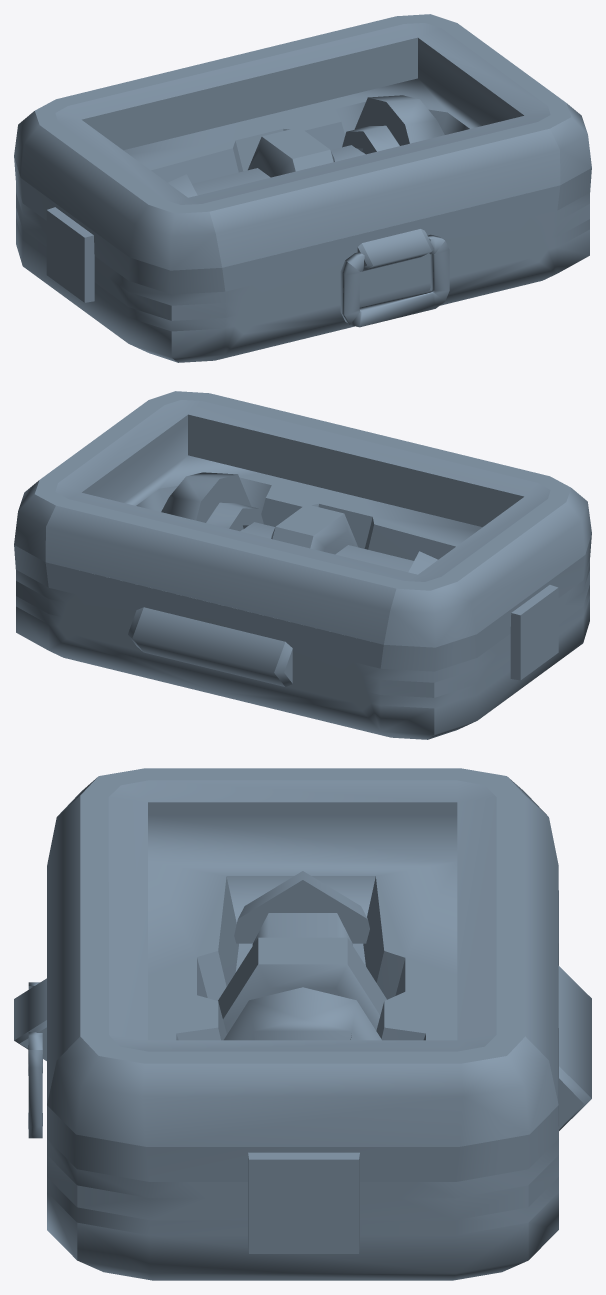
The model's file is obj_consumable_multicomponentkit_lod1.fbx.
3 views of the same model, one above another, from view 1: azimuth 30°, elevation 25°; view 2: azimuth 150°, elevation 25°; view 3: azimuth 270°, elevation 25° (orthographic). The views are drawn at different scales.
Visible parts, largest first — view 1: obj_consumable_multicomponent_lod1; view 2: obj_consumable_multicomponent_lod1; view 3: obj_consumable_multicomponent_lod1.
Boxes of the visible parts, x1,y1,x2,y2 form: obj_consumable_multicomponent_lod1: (14, 14, 591, 362); obj_consumable_multicomponent_lod1: (14, 391, 591, 739); obj_consumable_multicomponent_lod1: (14, 768, 591, 1280).
Size of the model in its own units: 3.1 by 0.9462 by 2.26.
